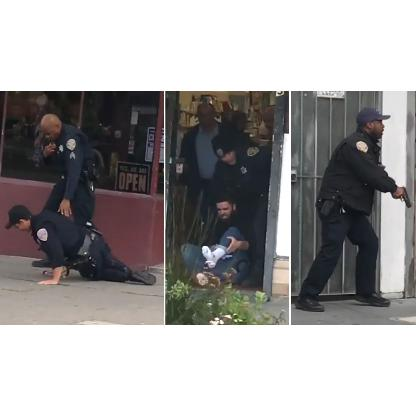gun: (392, 186, 410, 208)
